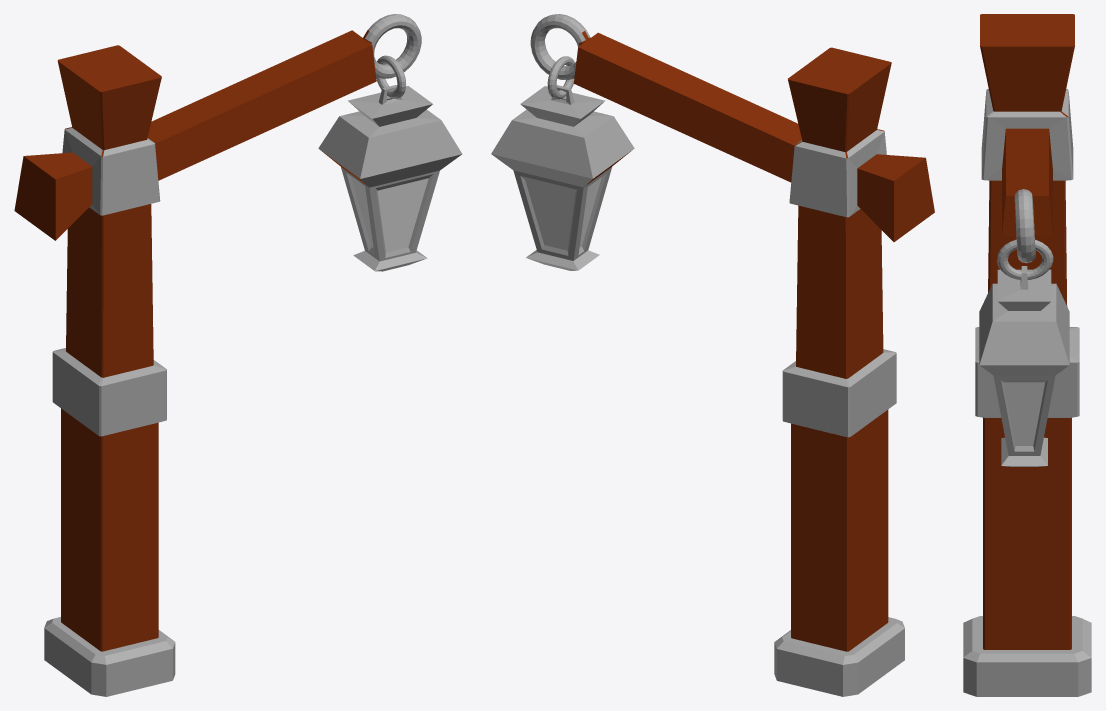
File: Lamp1.fbx
3 renders of one model, left to right at view 1: azimuth 30°, elevation 25°; view 2: azimuth 150°, elevation 25°; view 3: azimuth 270°, elevation 25°, orthographic. The views are drawn at different scales.
Parts seen in each view (by area): view 1: Cube.001; view 2: Cube.001; view 3: Cube.001.
Boxes of the visible parts, x1=… form: Cube.001: x1=14, y1=14, x2=462, y2=696; Cube.001: x1=491, y1=14, x2=934, y2=696; Cube.001: x1=963, y1=14, x2=1091, y2=696.
Bounding box in the file's own units: 99.22 × 140 × 25.32.
